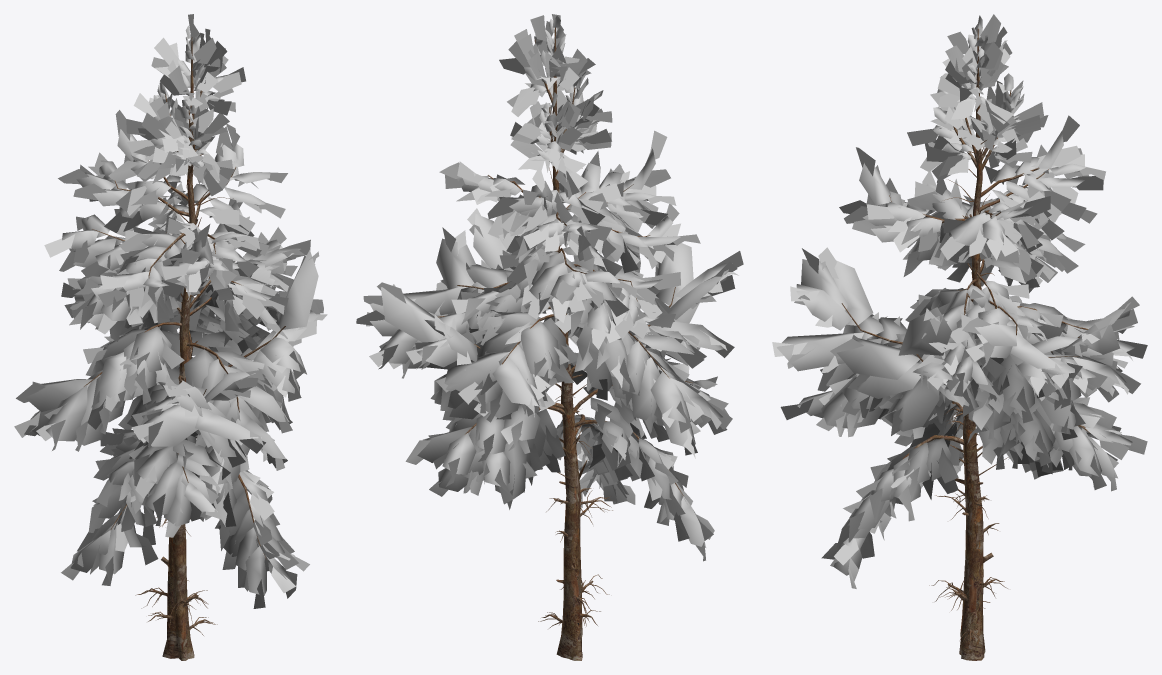
Rendered from Spruce_White_Desktop_Forest.FBX.
The picture shows the model from 3 angles, left to right: view 1: azimuth 30°, elevation 25°; view 2: azimuth 150°, elevation 25°; view 3: azimuth 270°, elevation 25°; orthographic projection. The views are drawn at different scales.
Parts seen in each view (by area): view 1: Spruce_White_Desktop_Forest_LOD0; view 2: Spruce_White_Desktop_Forest_LOD0; view 3: Spruce_White_Desktop_Forest_LOD0.
Part boxes in pixels (x1,y1,x2,y2): Spruce_White_Desktop_Forest_LOD0: [14, 14, 327, 660]; Spruce_White_Desktop_Forest_LOD0: [356, 14, 743, 660]; Spruce_White_Desktop_Forest_LOD0: [772, 14, 1147, 660].
Size of the model in its own units: 821 by 861 by 1643.
